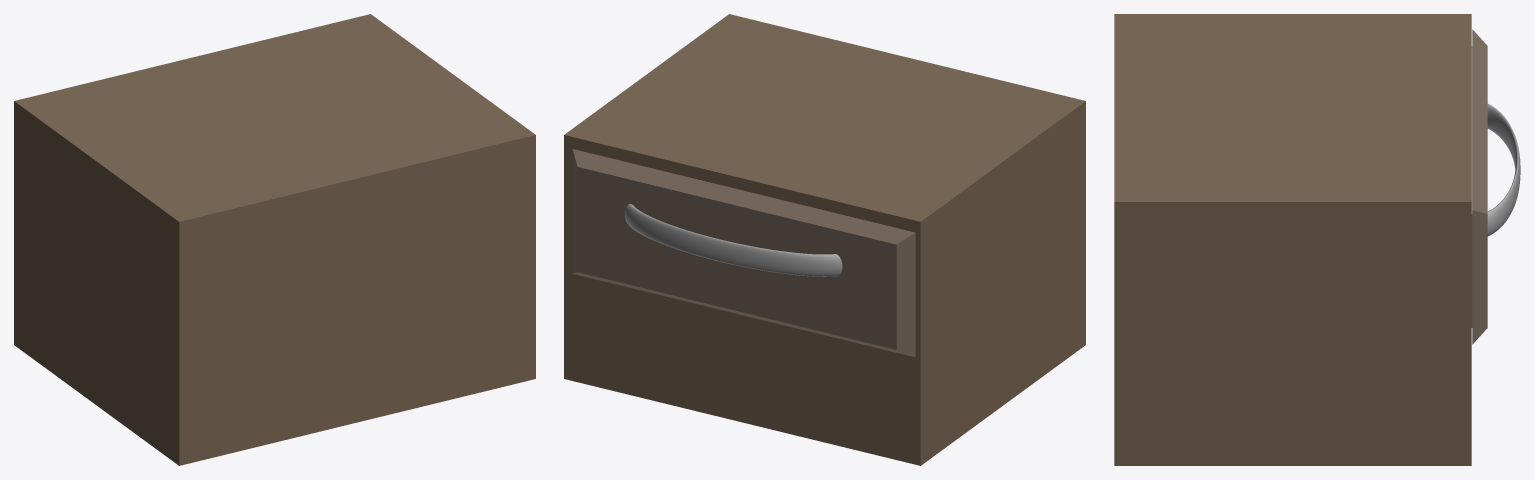
Rendered from Night Stand.fbx.
The picture shows the model from 3 angles, left to right: view 1: azimuth 30°, elevation 25°; view 2: azimuth 150°, elevation 25°; view 3: azimuth 270°, elevation 25°; orthographic projection. The views are drawn at different scales.
Visible parts, largest first — view 1: pCube8; view 2: pCube8, pCube10; view 3: pCube8, pCube10.
Part boxes in pixels (box(x1,y1,x2,y2)): pCube8: box(14, 14, 535, 465); pCube8: box(564, 14, 1085, 465); pCube10: box(572, 149, 915, 357); pCube8: box(1114, 14, 1471, 465); pCube10: box(1471, 29, 1520, 344).
Bounding box in the file's own units: 4.95 × 3.24 × 4.52.
